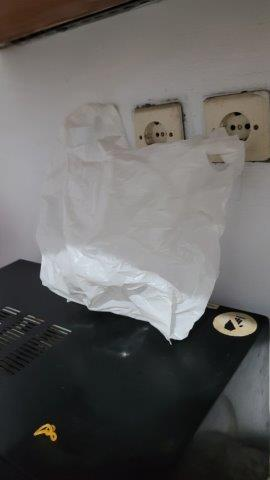plastik: (39, 104, 244, 346)
